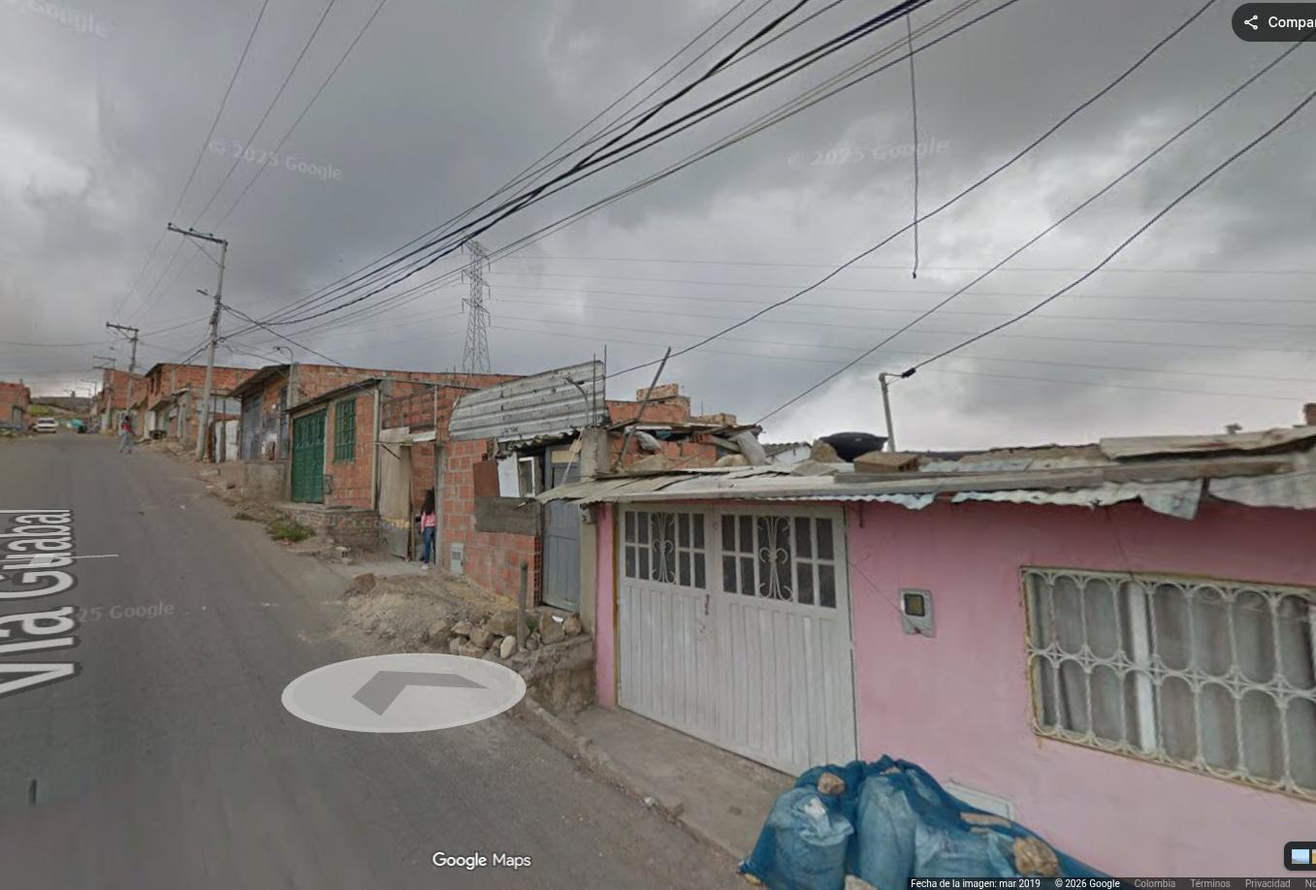casa: (538, 408, 1315, 875)
poste: (169, 224, 228, 461), (107, 322, 141, 416)
